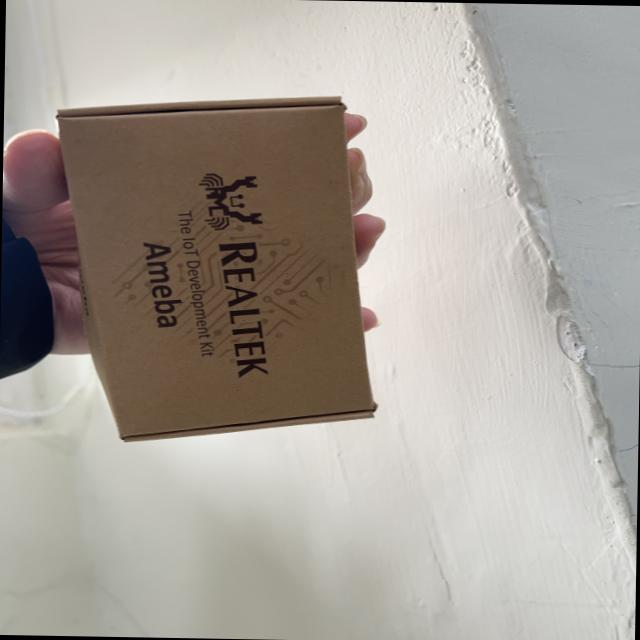box: (37, 95, 403, 458)
